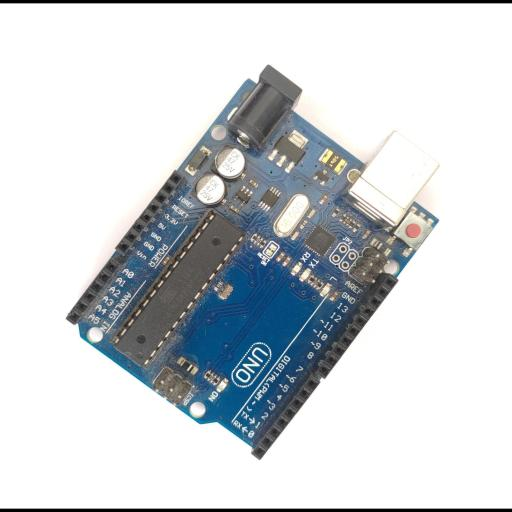Arduino Uno R3: (66, 64, 442, 460)
